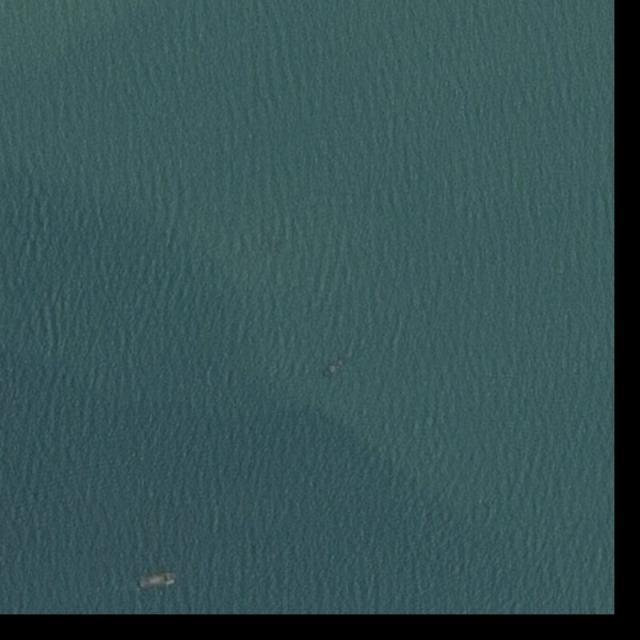ship: (138, 571, 177, 589), (326, 364, 338, 375)
